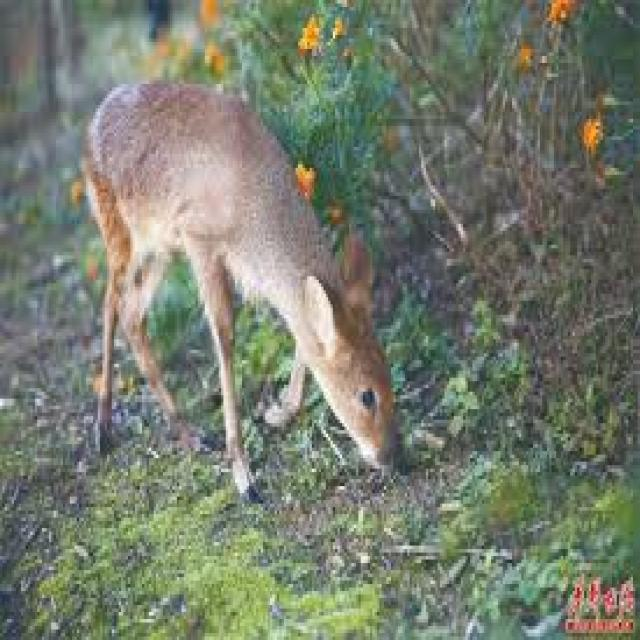elk: (76, 74, 403, 505)
